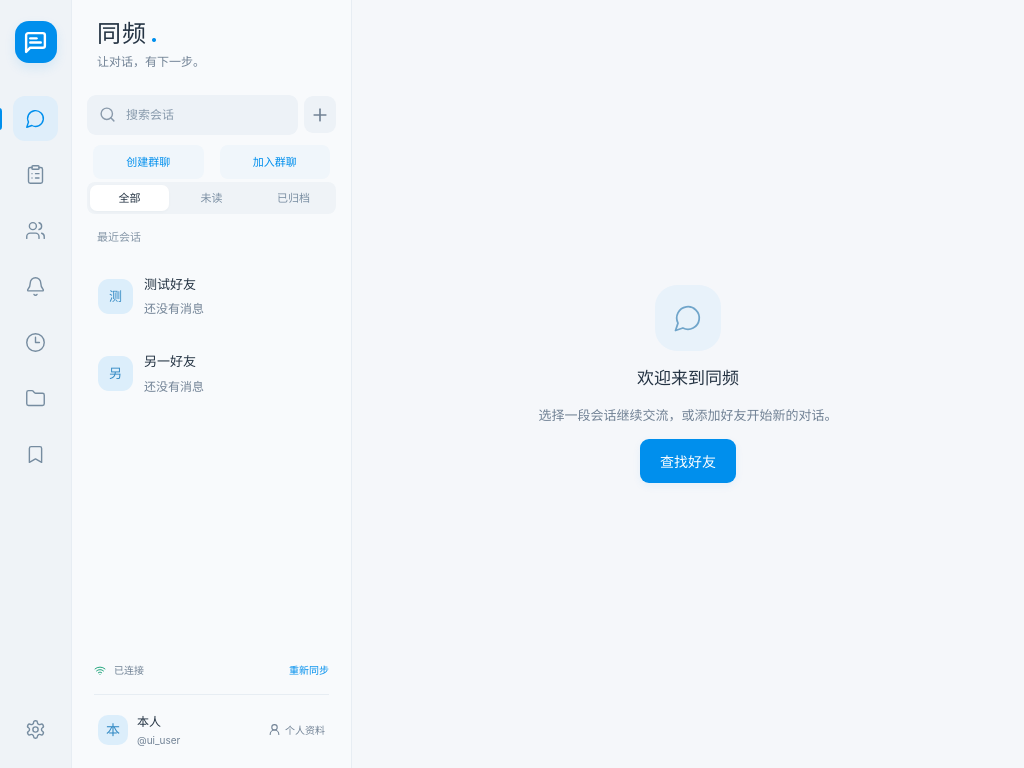
Test: M6-UI attachment draft lifecycle › restores conversation attachments, removes only the selected item and saves before navigating
The width and height of the screenshot is (1024, 768).
Step 1. Click the button "测 测试好友 还没有消息" → [212, 297], box x1=87 y1=261 x2=336 y2=332
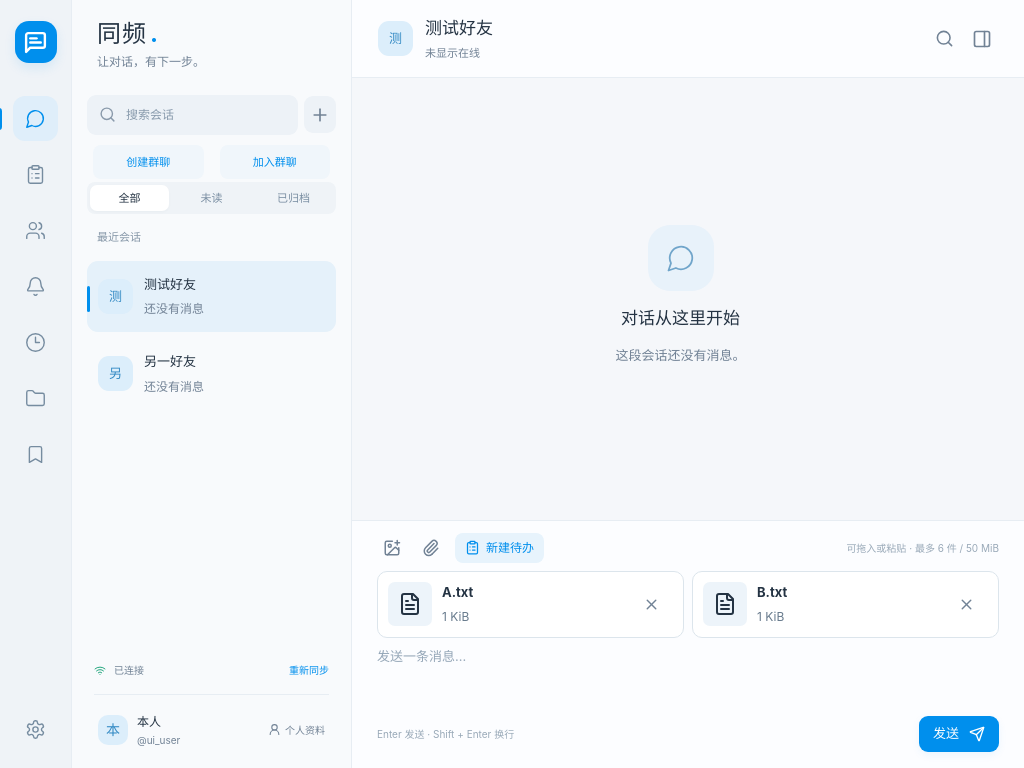
Now the text box named "消息内容" is enabled, box x1=377 y1=646 x2=999 y2=710
Now the text "A.txt" is shown, box x1=442 y1=584 x2=473 y2=600
Step 2. Click the button named "移除附件 A.txt" → [651, 604], box x1=629 y1=582 x2=673 y2=626
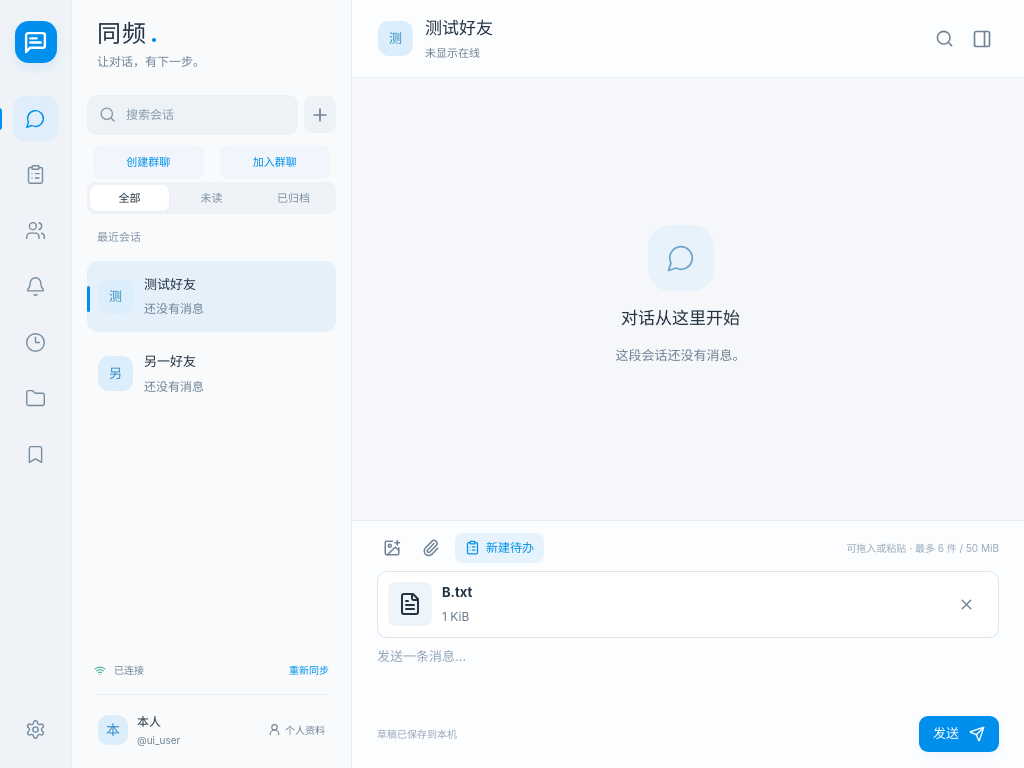
Step 3. Click the button "另 另一好友 还没有消息" → [212, 374], box x1=87 y1=338 x2=336 y2=409
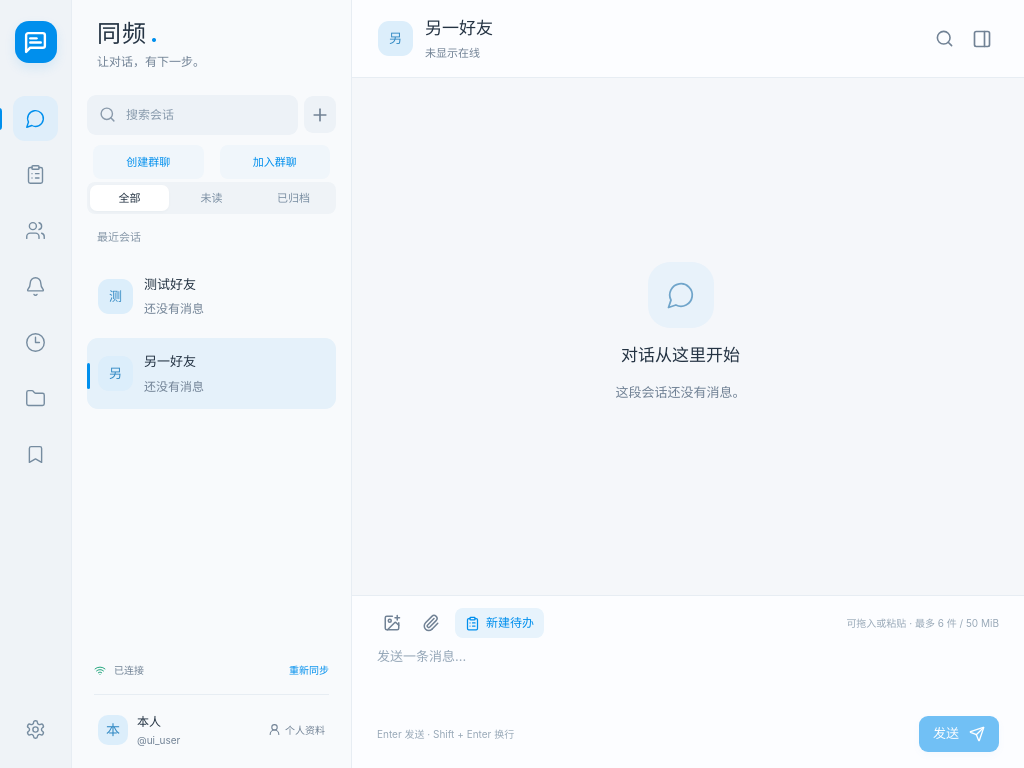
Now the text box named "消息内容" is enabled, box x1=377 y1=646 x2=999 y2=710
Now the text "B.txt" is gone
